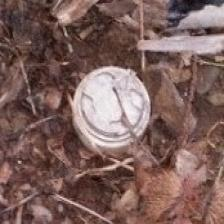M14: (72, 65, 153, 156)
